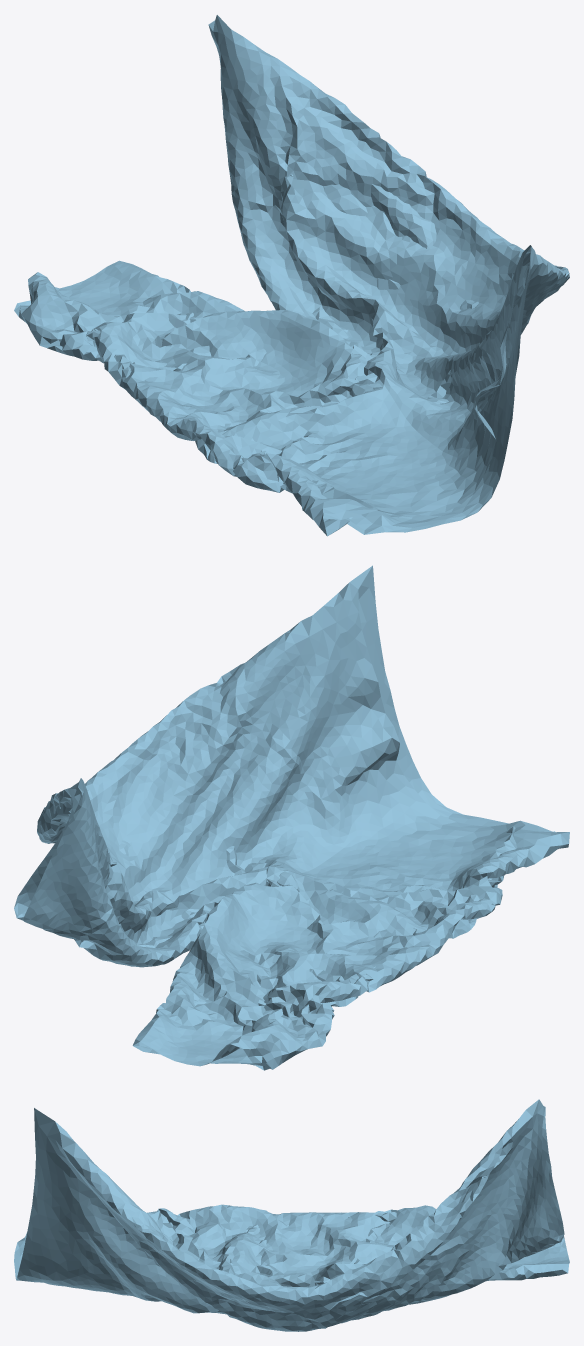
File: frame_10.glb
3 renders of one model, top to bottom at view 1: azimuth 30°, elevation 25°; view 2: azimuth 150°, elevation 25°; view 3: azimuth 270°, elevation 25°, orthographic. The views are drawn at different scales.
Visible parts, largest first — view 1: frame_10.obj; view 2: frame_10.obj; view 3: frame_10.obj.
Boxes of the visible parts, left/top/right/bottom form: frame_10.obj: left=14, top=15, right=569, bottom=536; frame_10.obj: left=14, top=565, right=569, bottom=1070; frame_10.obj: left=14, top=1099, right=569, bottom=1331.
Bounding box in the file's own units: 1.09 × 0.7275 × 1.74.
